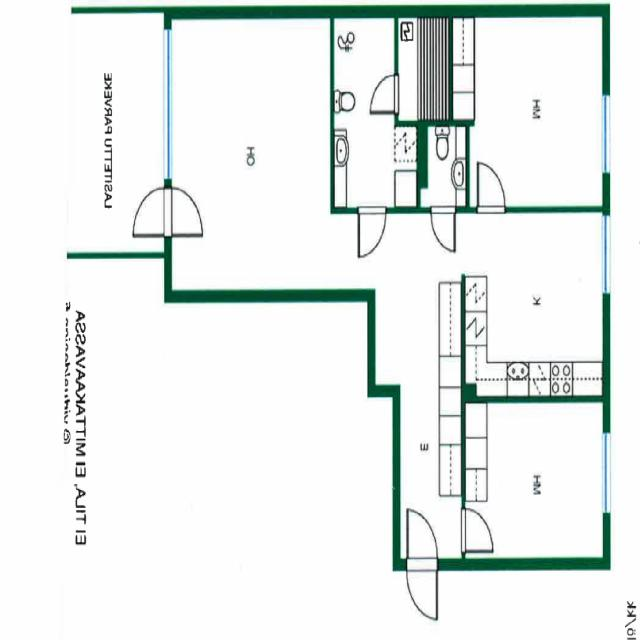door: (407, 510, 437, 570), (407, 558, 437, 617), (164, 189, 201, 235), (135, 189, 172, 235), (359, 207, 385, 255), (478, 166, 504, 213), (462, 510, 491, 550), (371, 75, 398, 113), (432, 207, 454, 250)
